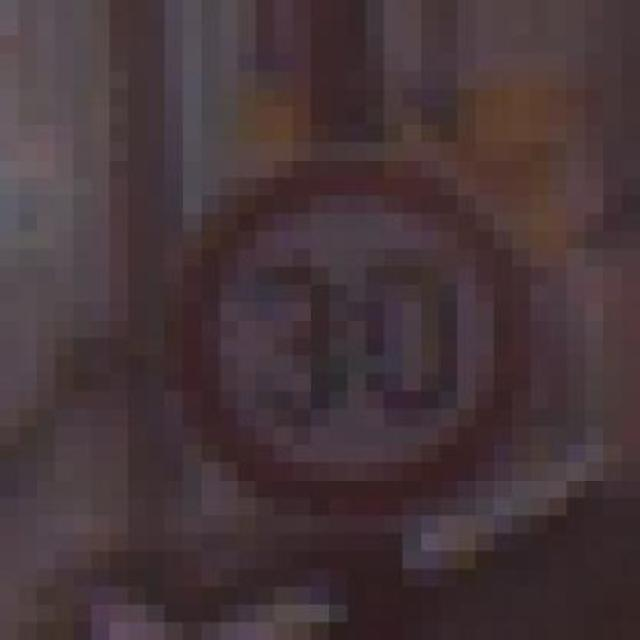Speed Limit 30 KMPh: (92, 106, 586, 534)
